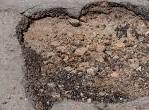pothole: (15, 0, 149, 110)
